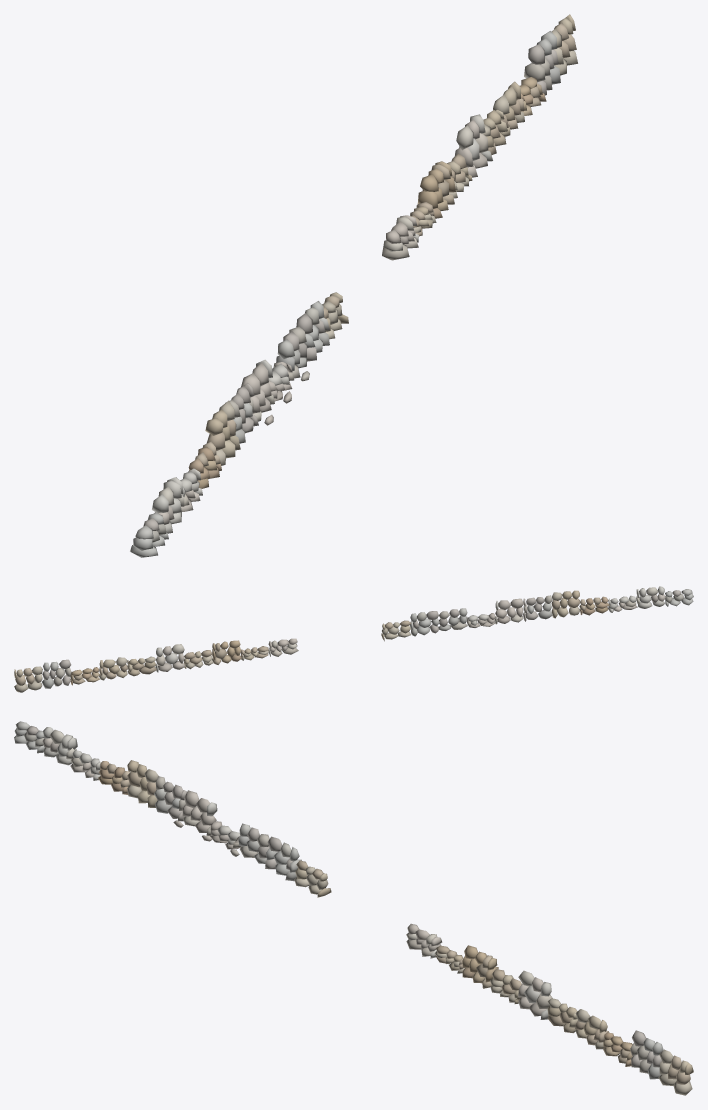
The model's file is farm_-2_3_near.glb.
3 renders of one model, top to bottom at view 1: azimuth 30°, elevation 25°; view 2: azimuth 150°, elevation 25°; view 3: azimuth 270°, elevation 25°, orthographic. The views are drawn at different scales.
Visible parts, largest first — view 1: geometry_0; view 2: geometry_0; view 3: geometry_0.
Part boxes in pixels (left/top/right/bottom): geometry_0: left=130, top=14, right=577, bottom=557; geometry_0: left=14, top=586, right=693, bottom=692; geometry_0: left=14, top=721, right=693, bottom=1095.
Bounding box in the file's own units: 28.38 × 3.12 × 25.62.
